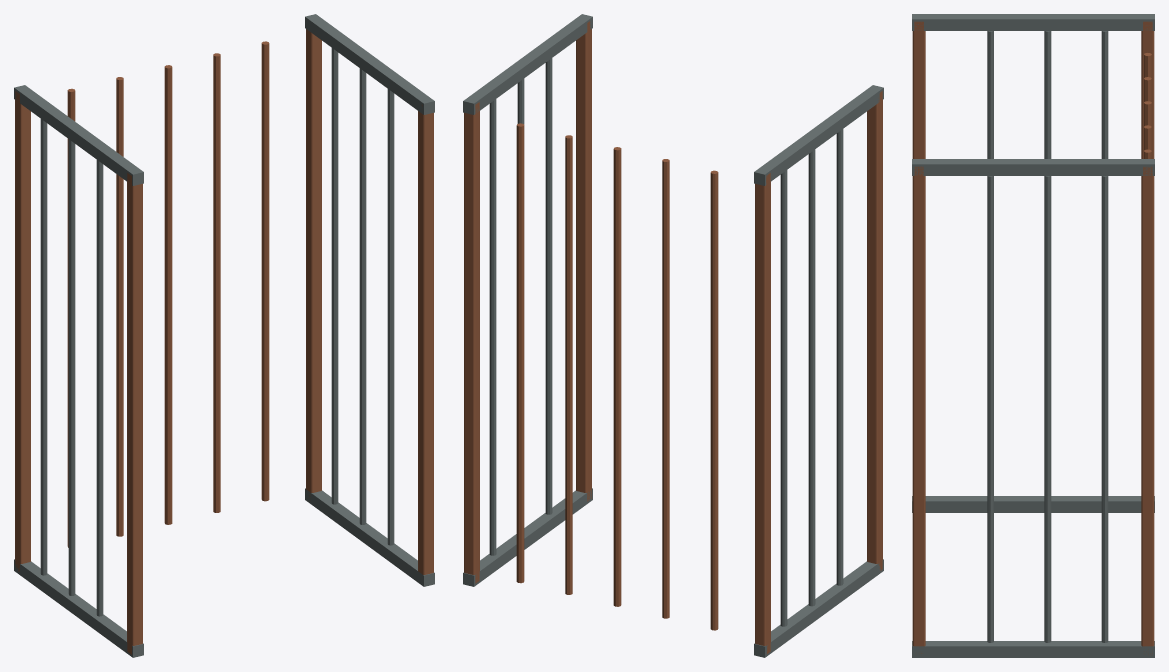
Rendered from cage.glb.
3 renders of one model, left to right at view 1: azimuth 30°, elevation 25°; view 2: azimuth 150°, elevation 25°; view 3: azimuth 270°, elevation 25°, orthographic. The views are drawn at different scales.
Visible parts, largest first — view 1: cage; view 2: cage; view 3: cage.
Boxes of the visible parts, x1,y1,x2,y2 form: cage: (14, 14, 434, 657); cage: (463, 14, 883, 657); cage: (912, 14, 1154, 657).
Bounding box in the file's own units: 1.25 × 1.9 × 0.85.
